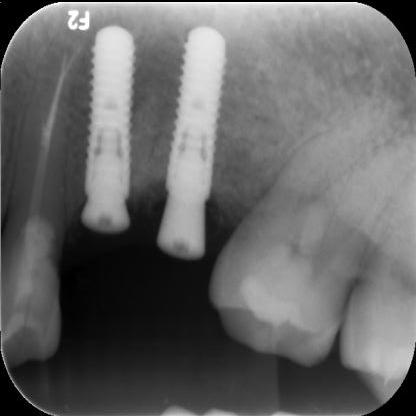ITI: (174, 28, 228, 194), (87, 27, 134, 197)
